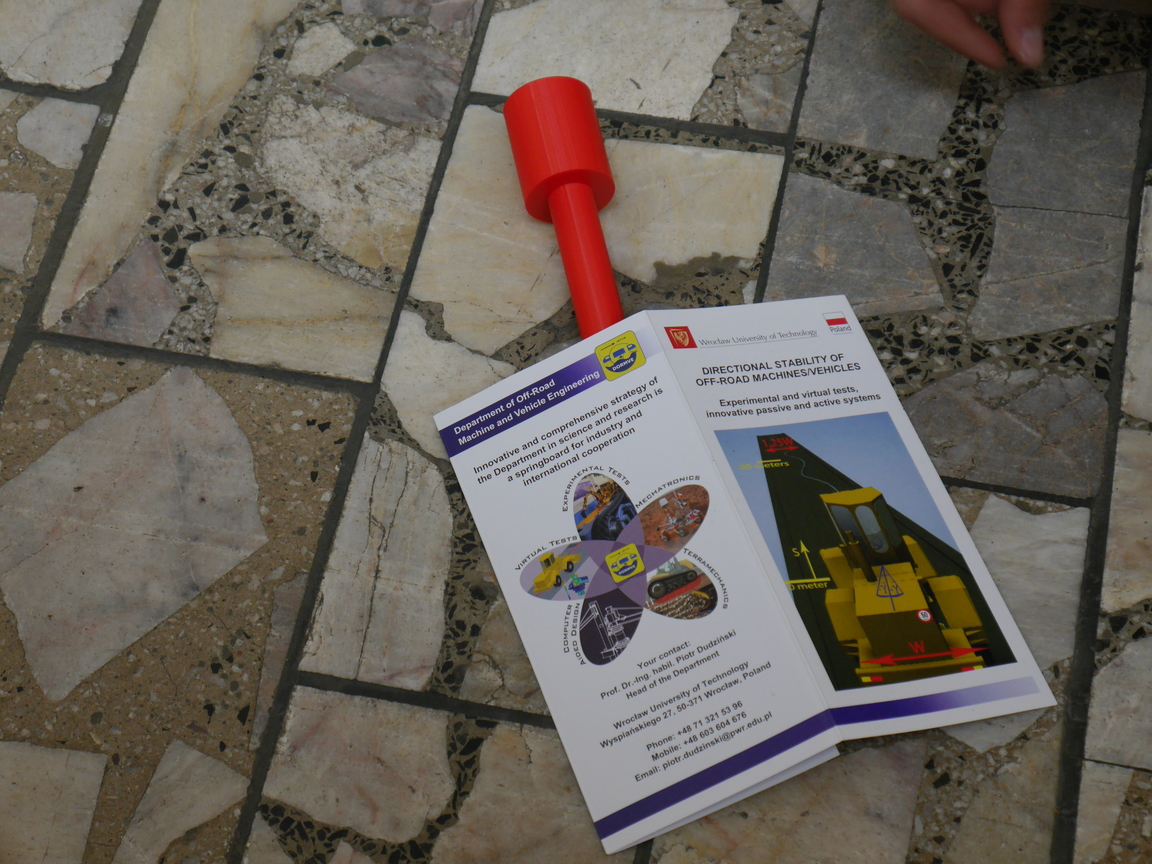cargo_g: (506, 75, 627, 339)
